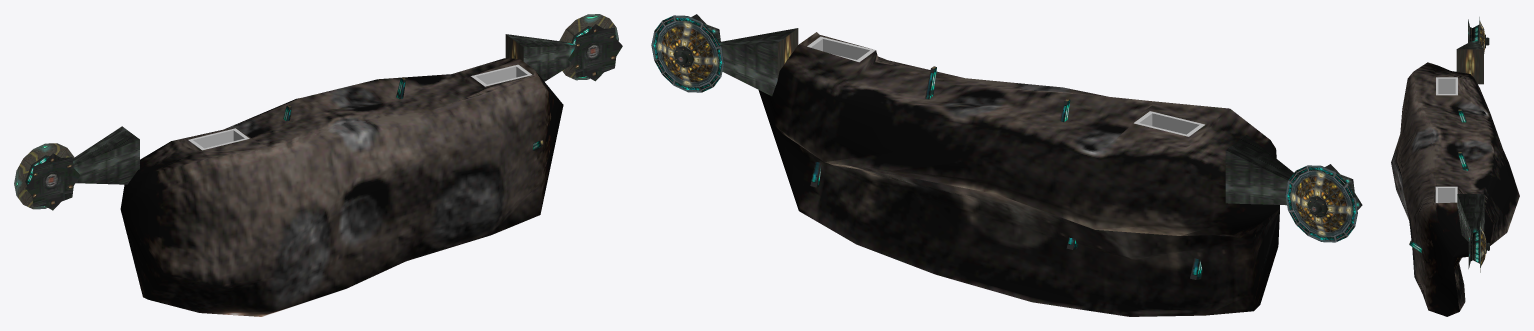
3 views of the same model, side by side, from view 1: azimuth 30°, elevation 25°; view 2: azimuth 150°, elevation 25°; view 3: azimuth 270°, elevation 25° (orthographic). The views are drawn at different scales.
Visible parts, largest first — view 1: frm-nurbs6_1, frm-fuselg4, frm-fuselg1, frm-cube5, frm-cube1; view 2: frm-nurbs6_1, frm-fuselg4, frm-fuselg1, frm-cube5, frm-cube1; view 3: frm-nurbs6_1, frm-cube1, frm-cube5, frm-fuselg1, frm-fuselg4, frm-cube9.
Part boxes in pixels (x1,y1,x2,y2): frm-nurbs6_1: (120,58,563,316); frm-fuselg4: (14,143,80,210); frm-fuselg1: (559,14,622,81); frm-cube5: (72,126,139,184); frm-cube1: (505,34,574,81); frm-nurbs6_1: (758,32,1279,316); frm-fuselg4: (1285,164,1362,242); frm-fuselg1: (651,14,724,92); frm-cube5: (1225,135,1293,205); frm-cube1: (718,28,798,96); frm-nurbs6_1: (1391,62,1519,316); frm-cube1: (1457,194,1484,241); frm-cube5: (1456,41,1483,84); frm-fuselg1: (1468,221,1489,272); frm-fuselg4: (1468,17,1489,53); frm-cube9: (1458,152,1468,170).
Bounding box in the file's own units: 101 × 31.15 × 24.38.
